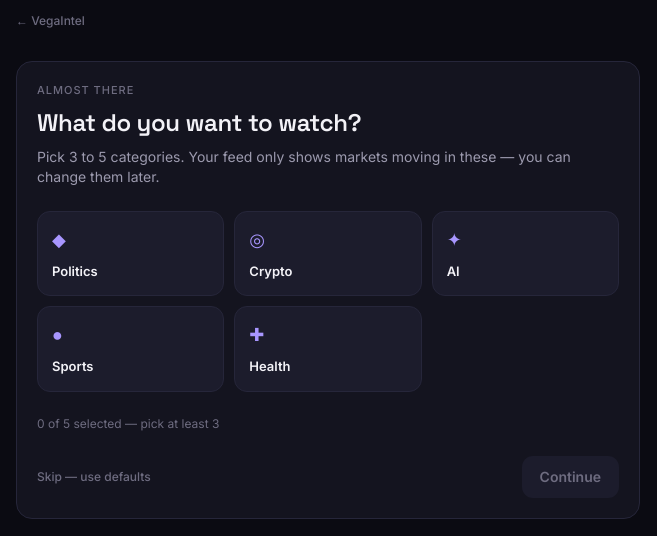
Test: OnboardingPage › disables Continue until at least 3 categories are picked
The width and height of the screenshot is (657, 536).
expect the button "Continue" is disabled: met, box [522,456,619,498]
Click the button "◆ Politics". click: (131,254)
box: [37,211,224,296]
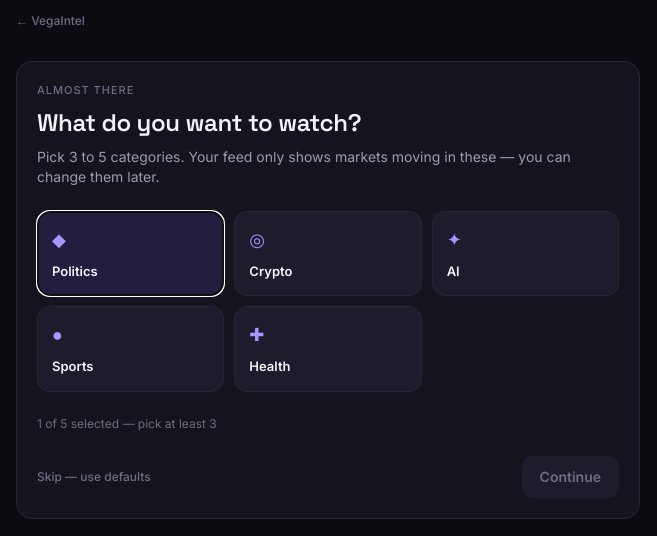
Click the button "◎ Crypto". click: (328,254)
box: [234,211,422,296]
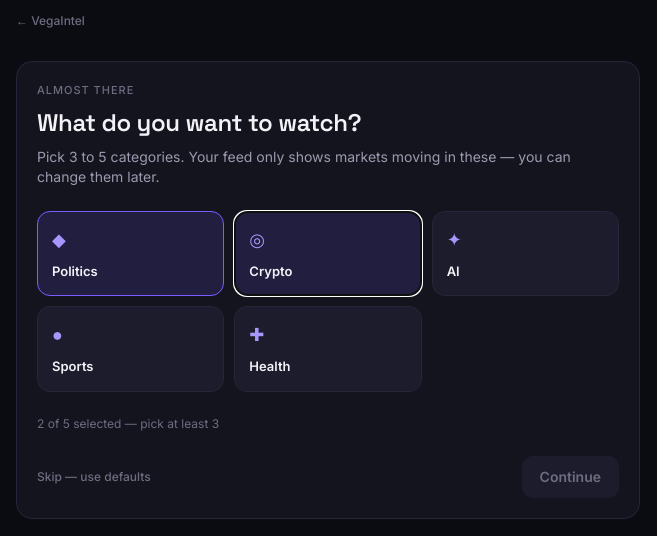
expect the button "Continue" is disabled: met, box [522,456,619,498]
Click the button "✦ AI". click: (525,254)
box: [432,211,619,296]
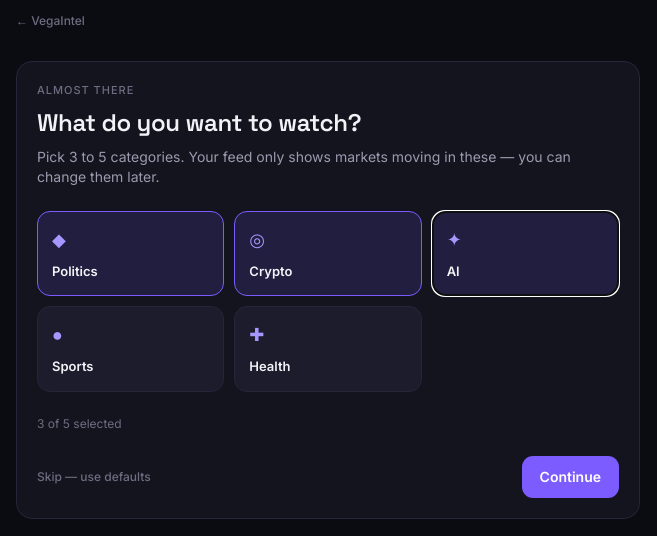
expect the button "Continue" is enabled: met, box [522,456,619,498]
